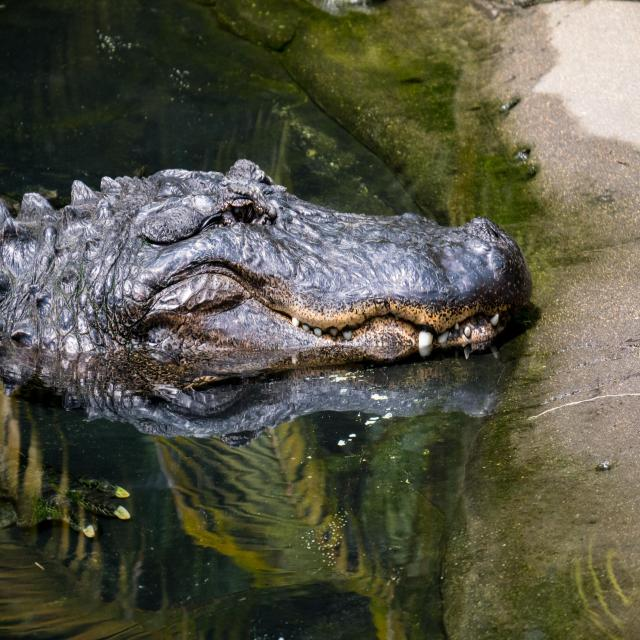crocodile: (0, 150, 562, 430)
